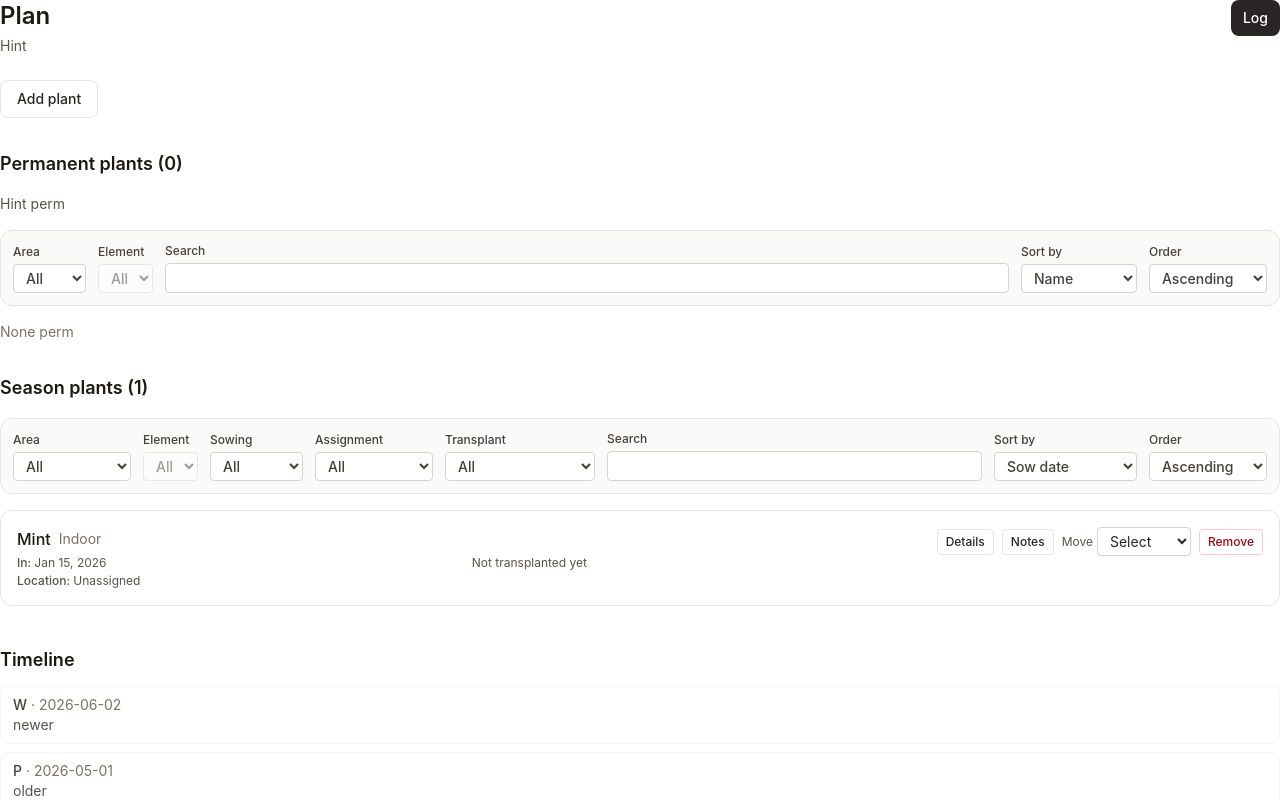
Test: PlantingPlanPage › shows notes in indoor unassigned detail modal
Click the button with test id "season-plant-name-pl8" at [34, 539], box [17,527,51,551]
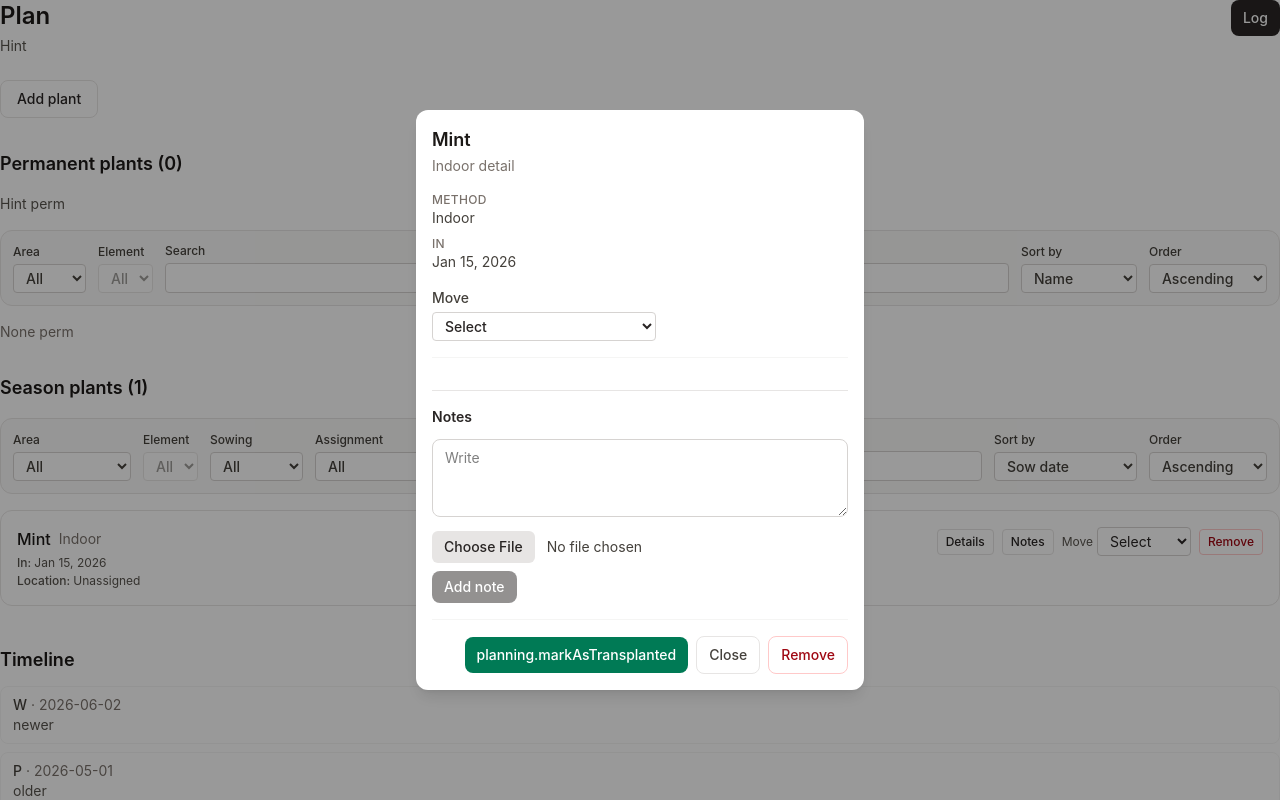
Result: the element with test id "notes-section" is shown at [432,390,848,603]
